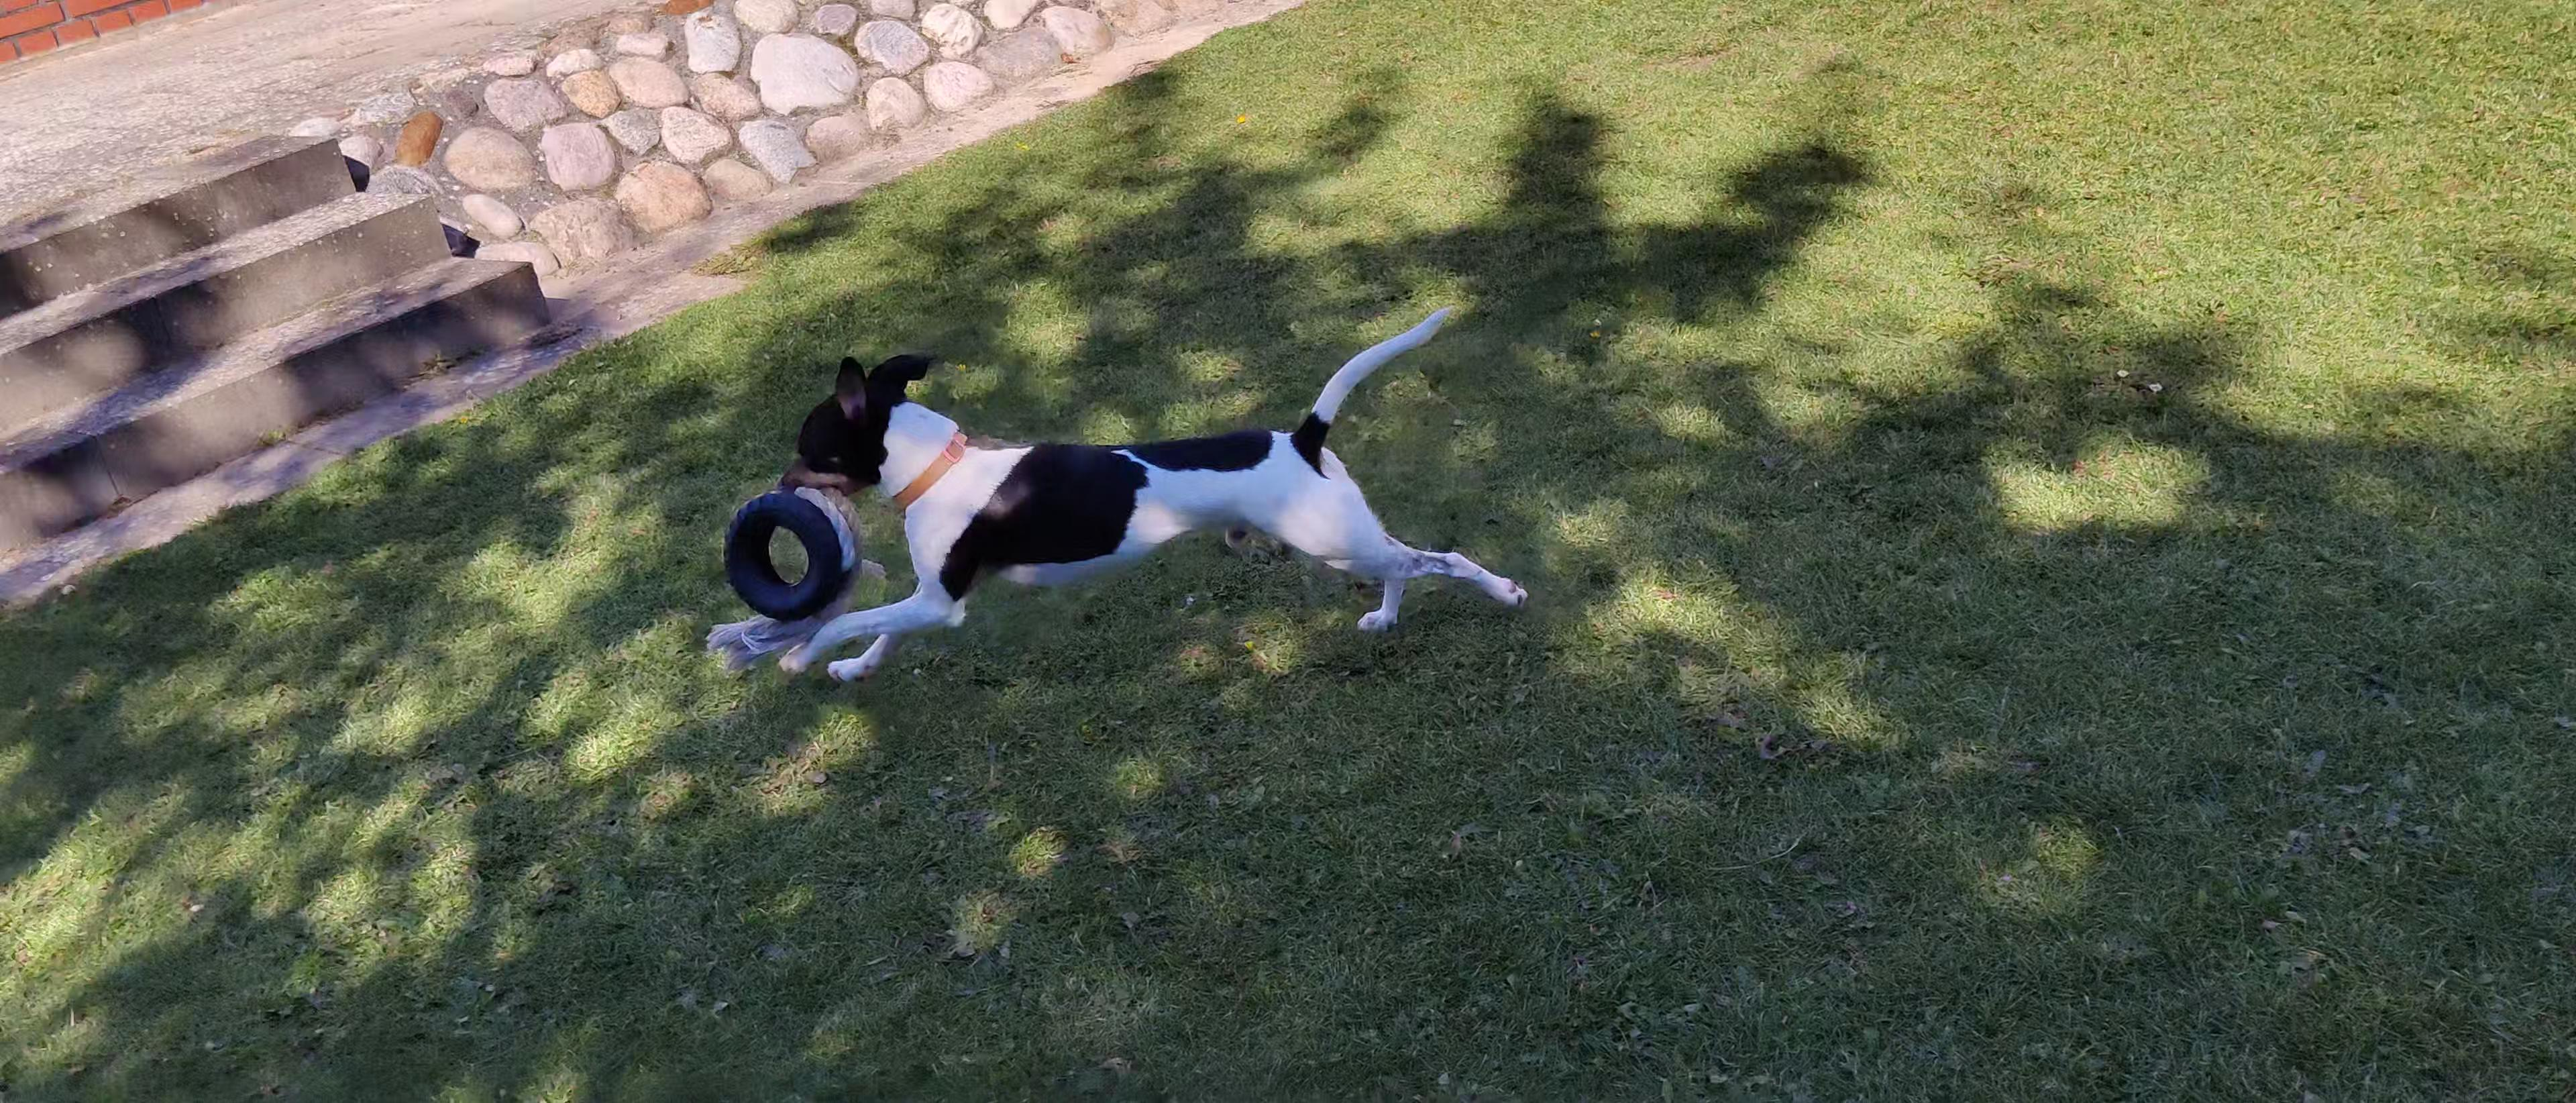Dog: (690, 279, 1549, 702)
